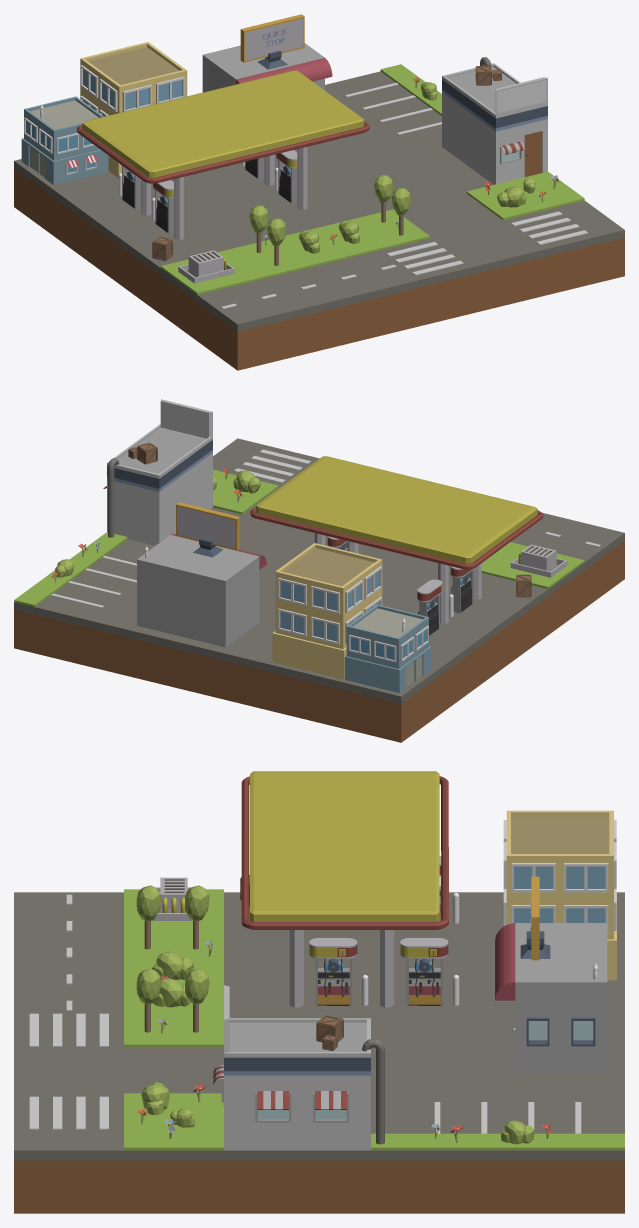
File: Station.fbx
3 renders of one model, top to bottom at view 1: azimuth 30°, elevation 25°; view 2: azimuth 150°, elevation 25°; view 3: azimuth 270°, elevation 25°, orthographic. The views are drawn at different scales.
Visible parts, largest first — view 1: Cube.001_Cube.002; view 2: Cube.001_Cube.002; view 3: Cube.001_Cube.002.
Boxes of the visible parts, left/top/right/bottom form: Cube.001_Cube.002: left=14, top=14, right=624, bottom=370; Cube.001_Cube.002: left=14, top=399, right=624, bottom=742; Cube.001_Cube.002: left=14, top=771, right=624, bottom=1213.
Size of the model in its own units: 8.7 by 3.14 by 8.31.
